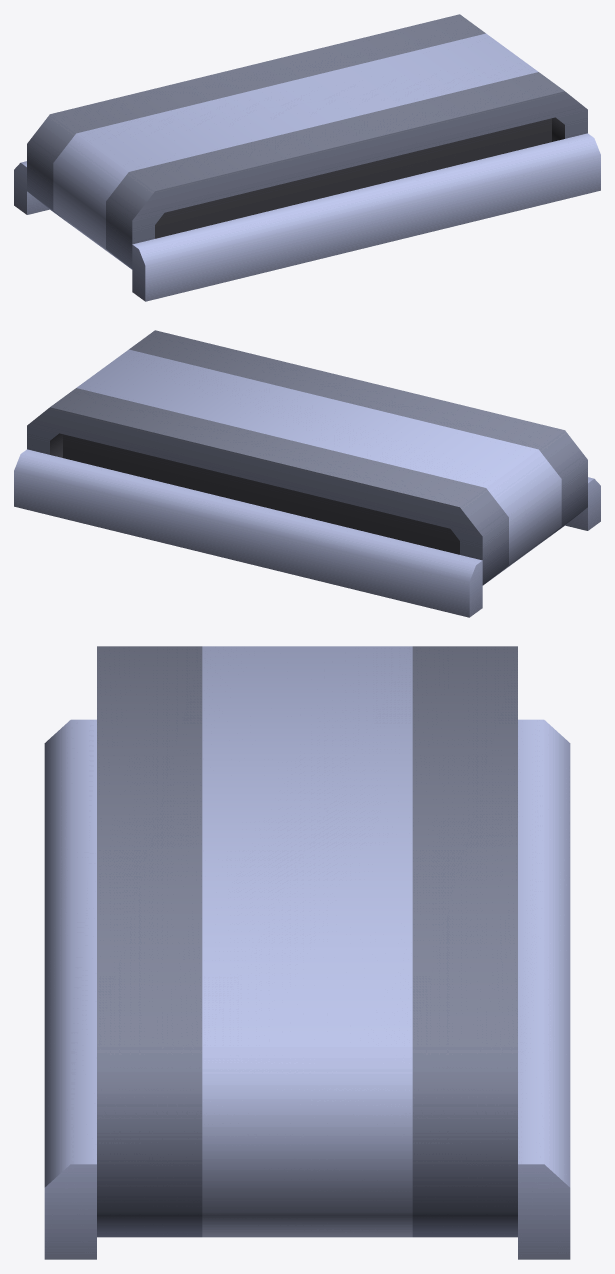
Rendered from conveyor-long-stripe-sides.glb.
3 views of the same model, one above another, from view 1: azimuth 30°, elevation 25°; view 2: azimuth 150°, elevation 25°; view 3: azimuth 270°, elevation 25° (orthographic). The views are drawn at different scales.
Visible parts, largest first — view 1: Group.001, Group; view 2: Group.001, Group; view 3: Group.001, Group.
Boxes of the visible parts, <box> form: Group.001: <box>27,14,587,269</box>; Group: <box>14,133,600,301</box>; Group.001: <box>27,330,587,585</box>; Group: <box>14,449,600,617</box>; Group.001: <box>97,646,517,1237</box>; Group: <box>44,719,570,1259</box>.
Size of the model in its own units: 2 by 0.4 by 1.
1 material, 1 textured.
